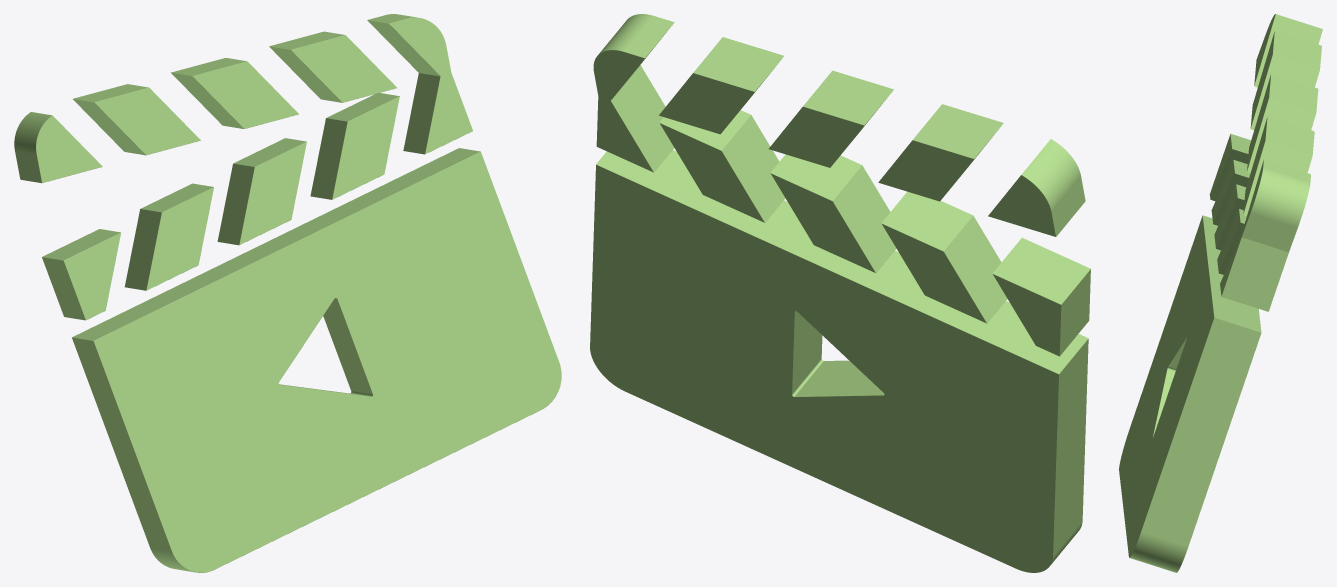
Rendered from clapboard.glb.
3 views of the same model, side by side, from view 1: azimuth 30°, elevation 25°; view 2: azimuth 150°, elevation 25°; view 3: azimuth 270°, elevation 25° (orthographic). The views are drawn at different scales.
Bounding box in the file's own units: 4.31 × 3.99 × 1.65.
